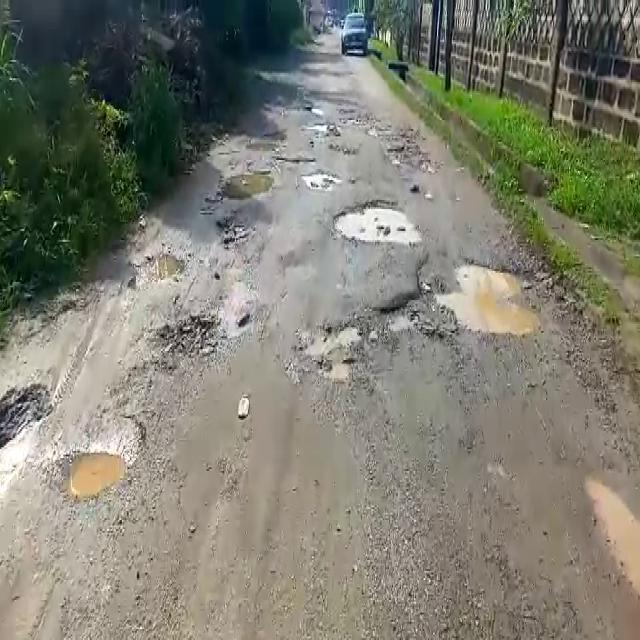pothole: (399, 259, 543, 339), (583, 475, 640, 598), (53, 444, 137, 504), (294, 316, 363, 389), (331, 198, 420, 249), (0, 378, 54, 461), (142, 311, 218, 367), (127, 249, 186, 287), (213, 170, 276, 205), (300, 171, 340, 191), (306, 119, 337, 133)
